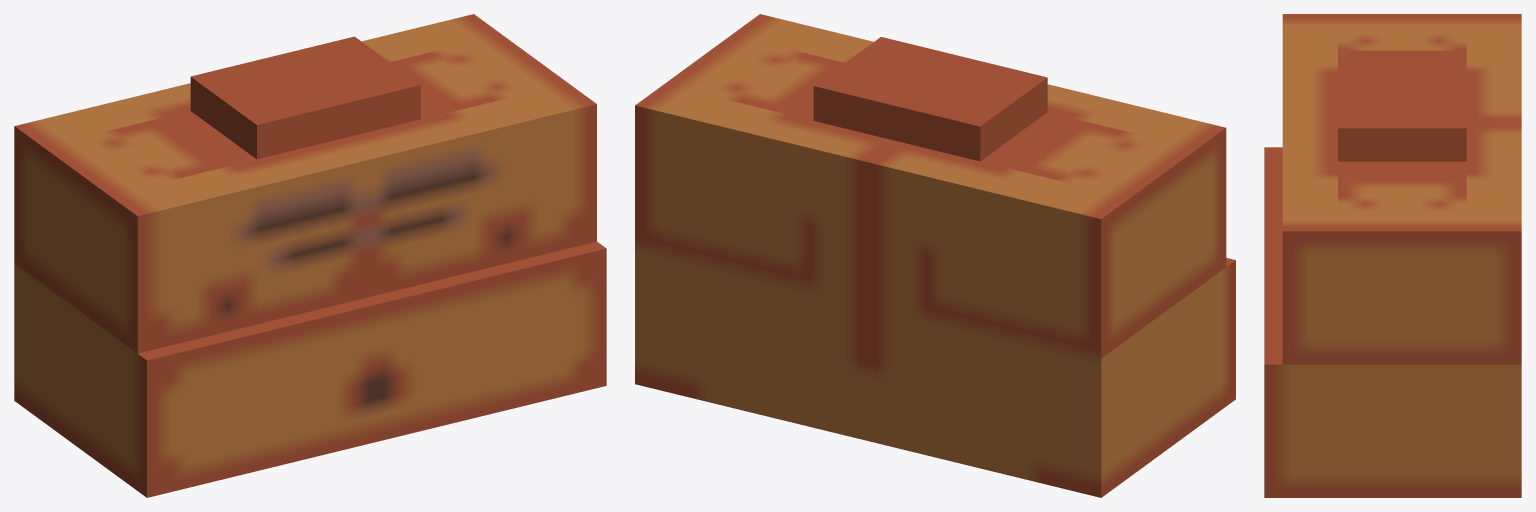
File: ogre_torso.fbx
3 views of the same model, side by side, from view 1: azimuth 30°, elevation 25°; view 2: azimuth 150°, elevation 25°; view 3: azimuth 270°, elevation 25° (orthographic). The views are drawn at different scales.
Parts seen in each view (by area): view 1: ogre_torso; view 2: ogre_torso; view 3: ogre_torso.
Boxes of the visible parts, x1=… form: ogre_torso: x1=14, y1=14, x2=606, y2=497; ogre_torso: x1=635, y1=14, x2=1235, y2=497; ogre_torso: x1=1264, y1=14, x2=1521, y2=497.
Bounding box in the file's own units: 28 × 18 × 14.
1 material, 1 textured.
